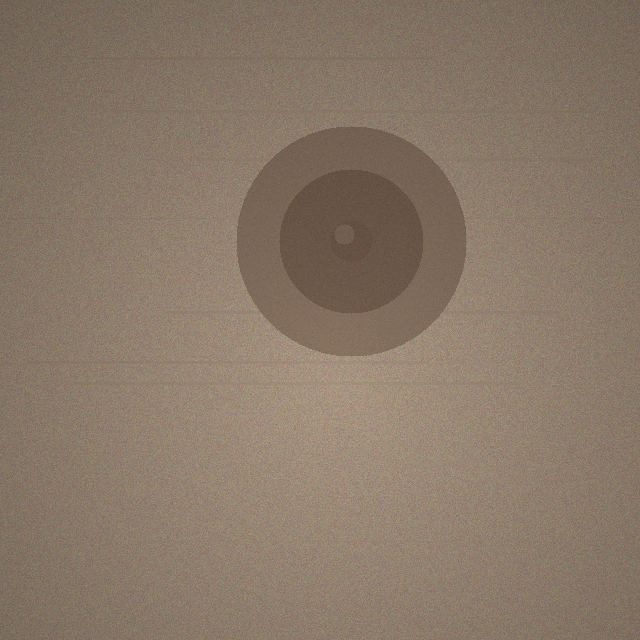good: (236, 126, 466, 356)
